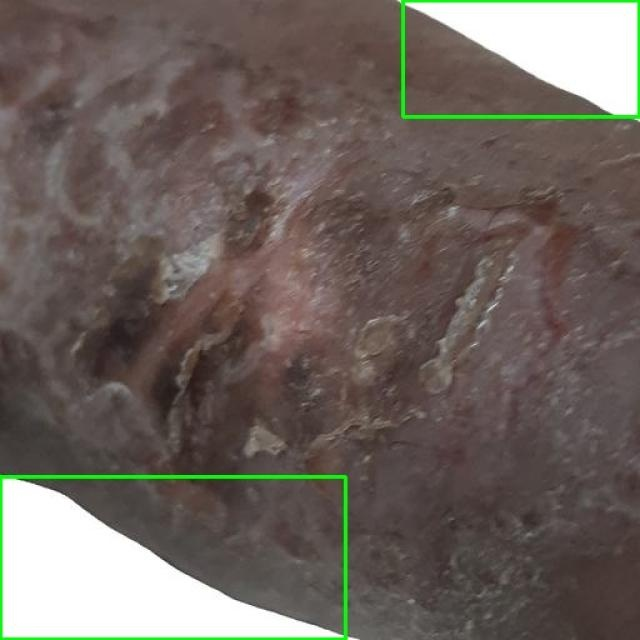Eczema: (0, 476, 345, 639), (402, 0, 639, 118)
